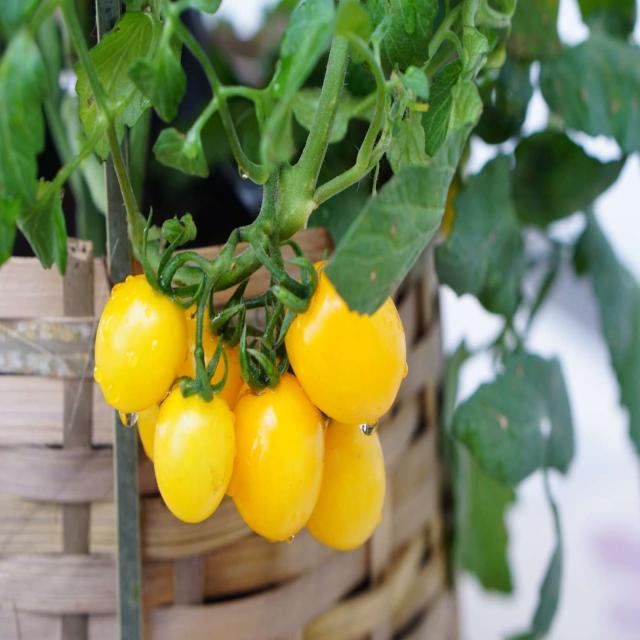level 4: (285, 260, 407, 428), (137, 302, 246, 473), (226, 376, 323, 542), (290, 392, 388, 552), (94, 269, 185, 414), (151, 386, 238, 522)
